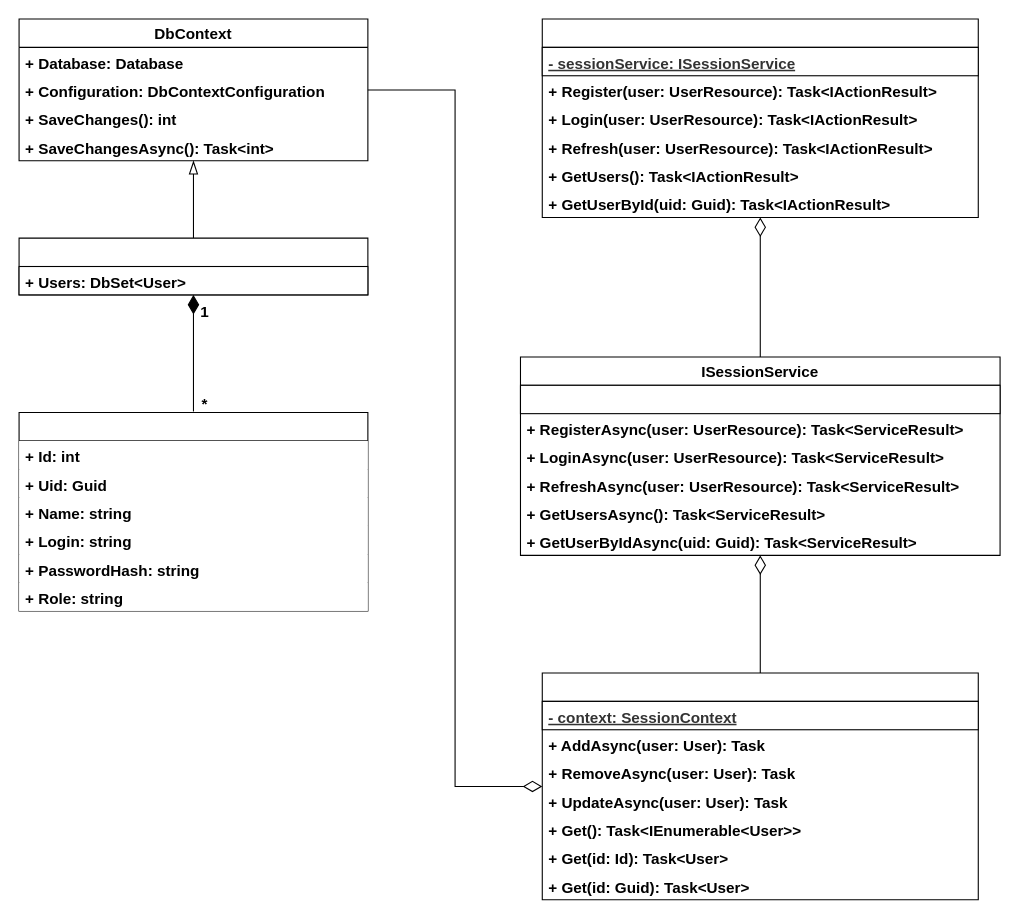
The diagram is 1019 pixels wide and 922 high, and some of its shapes have lost their labels. Each missing label, with the box of its shape:
- repository: IUsersRepository: (519, 384, 1000, 414)
IUsersRepository: (541, 672, 978, 900)
SessionContext: (18, 237, 368, 295)
SessionController: (541, 18, 978, 217)
User: (18, 411, 368, 611)
